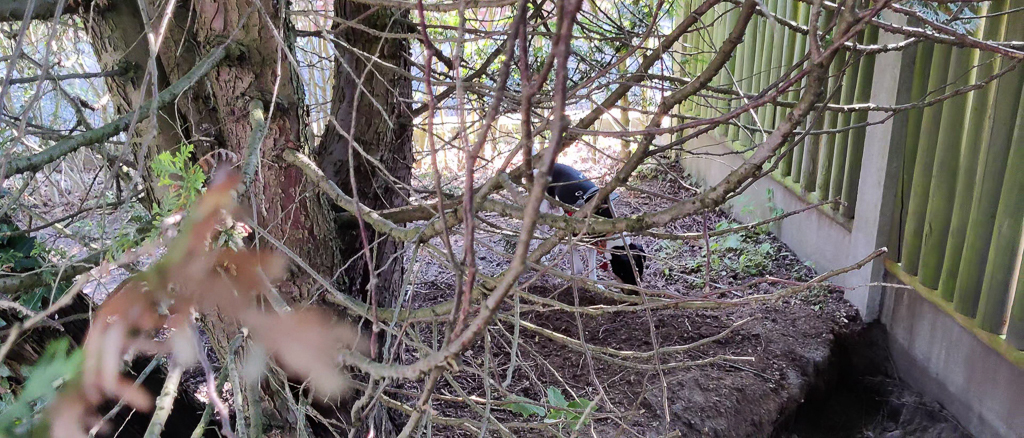Dog: (514, 132, 659, 303)
